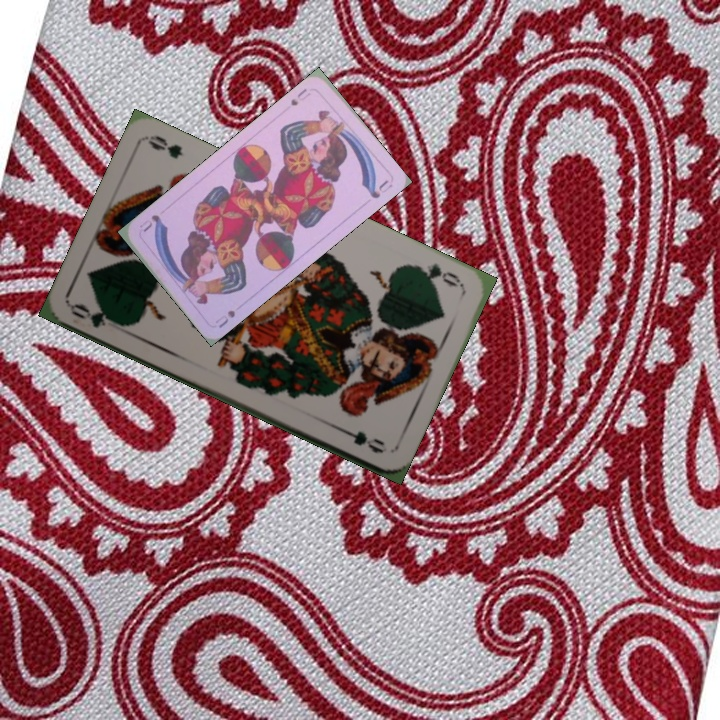GO: (67, 299, 127, 331), (409, 259, 465, 290)
SU: (211, 306, 238, 331), (286, 84, 313, 109)
